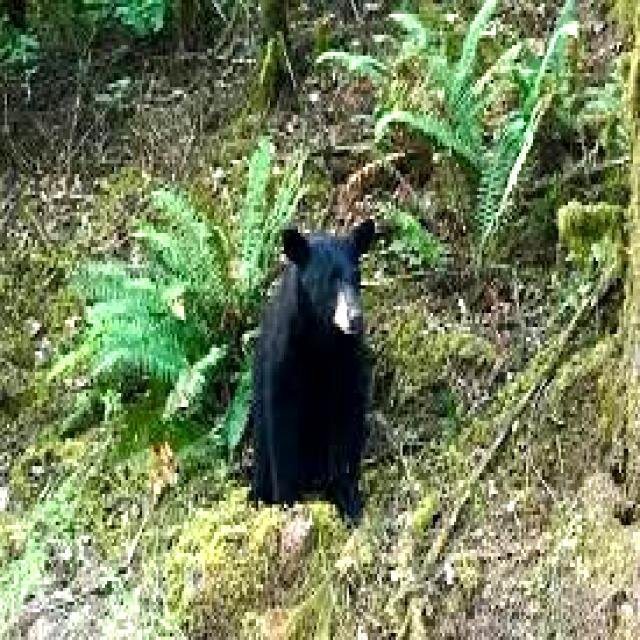bear: (269, 208, 381, 508)
